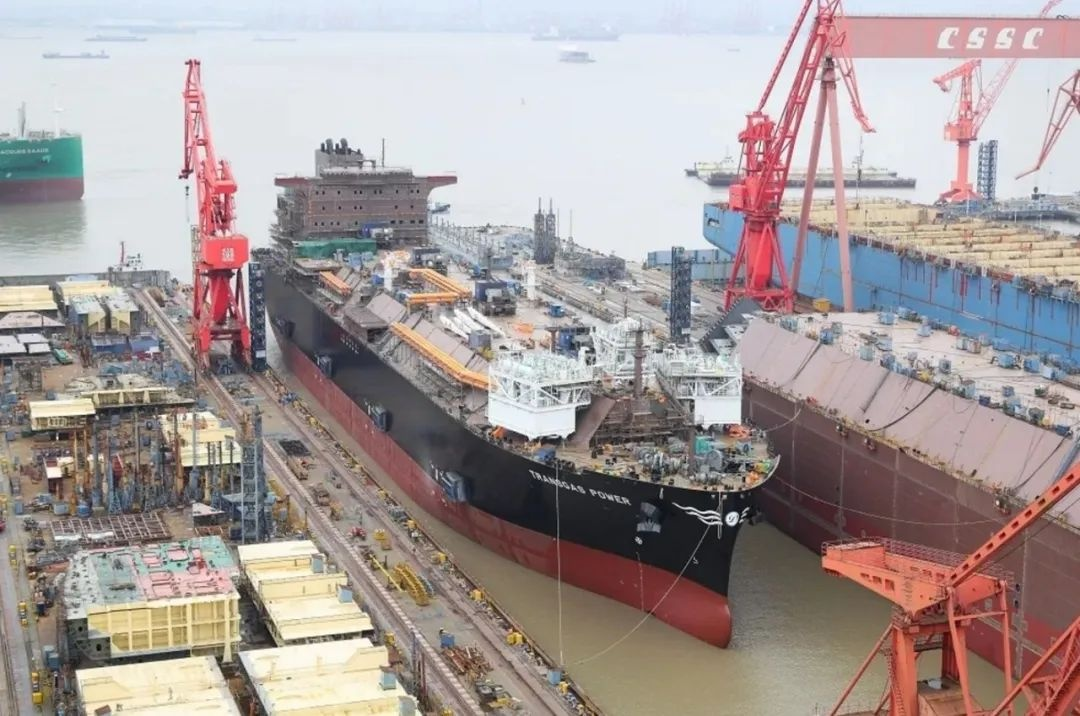Cargoship: (248, 131, 782, 656)
